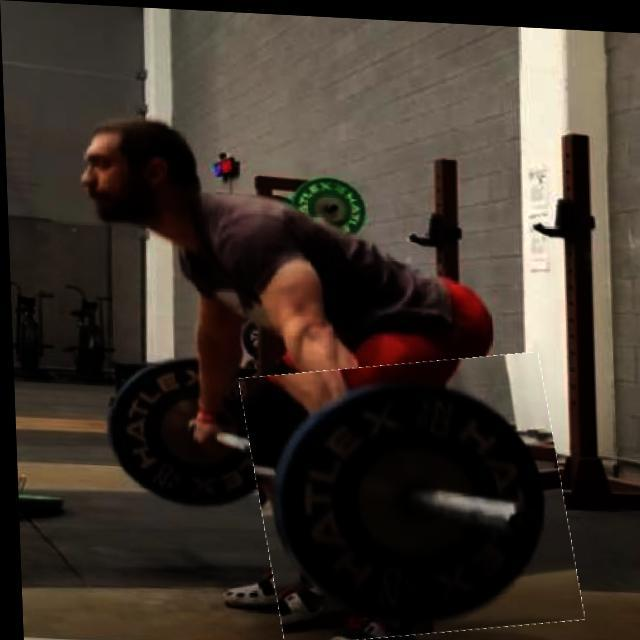barbell: (245, 346, 573, 640)
